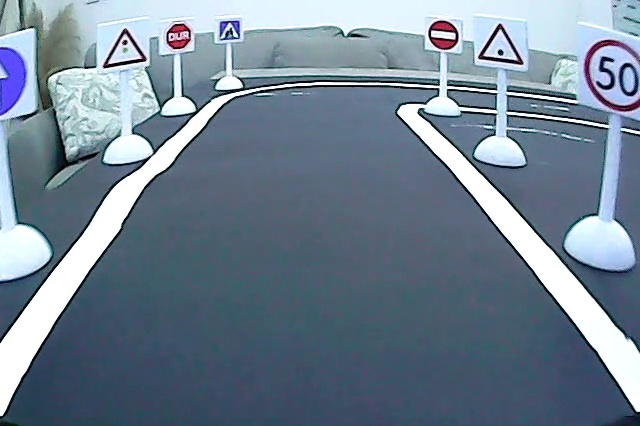do not enter: (427, 18, 460, 52)
green light: (474, 18, 528, 68)
red light: (100, 22, 149, 71)
school crossing: (218, 19, 243, 43)
speed limit 50: (581, 36, 640, 114)
stop sign: (163, 19, 193, 53)
